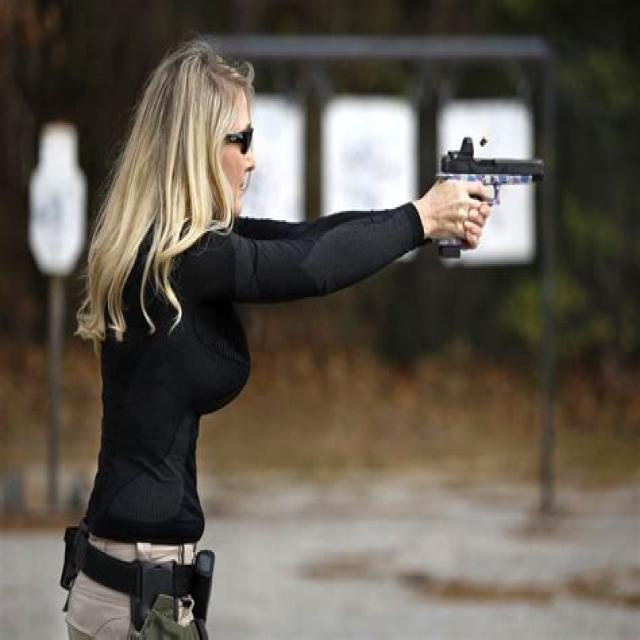weapons: (411, 111, 562, 273)
